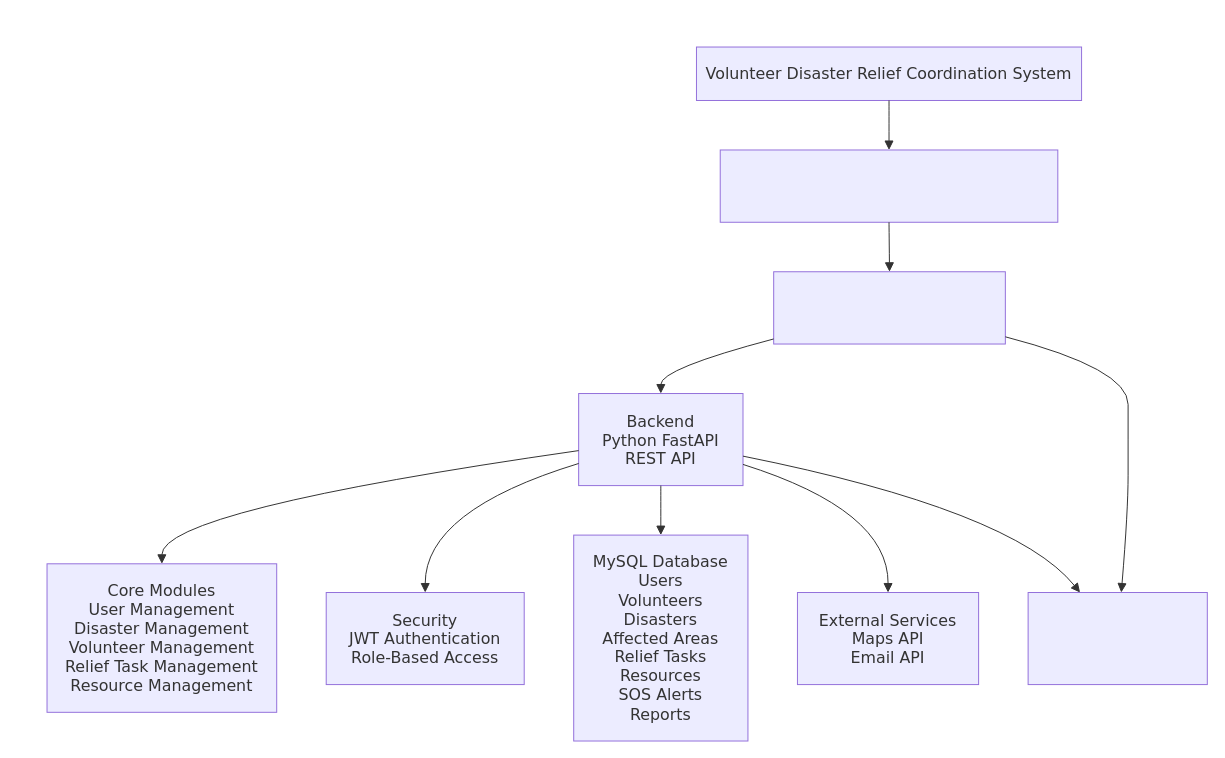
The diagram is 1225 pixels wide and 758 high, and some of its shapes have lost their labels. Each missing label, with the centre of its shape:
"Frontend HTML + CSS + JavaScript" goes at point 889,307.
"Hosting Frontend: Vercel Backend: Render" goes at point 1117,638.
"Users Admin | Volunteer | Relief Coordinator" goes at point 888,185.
